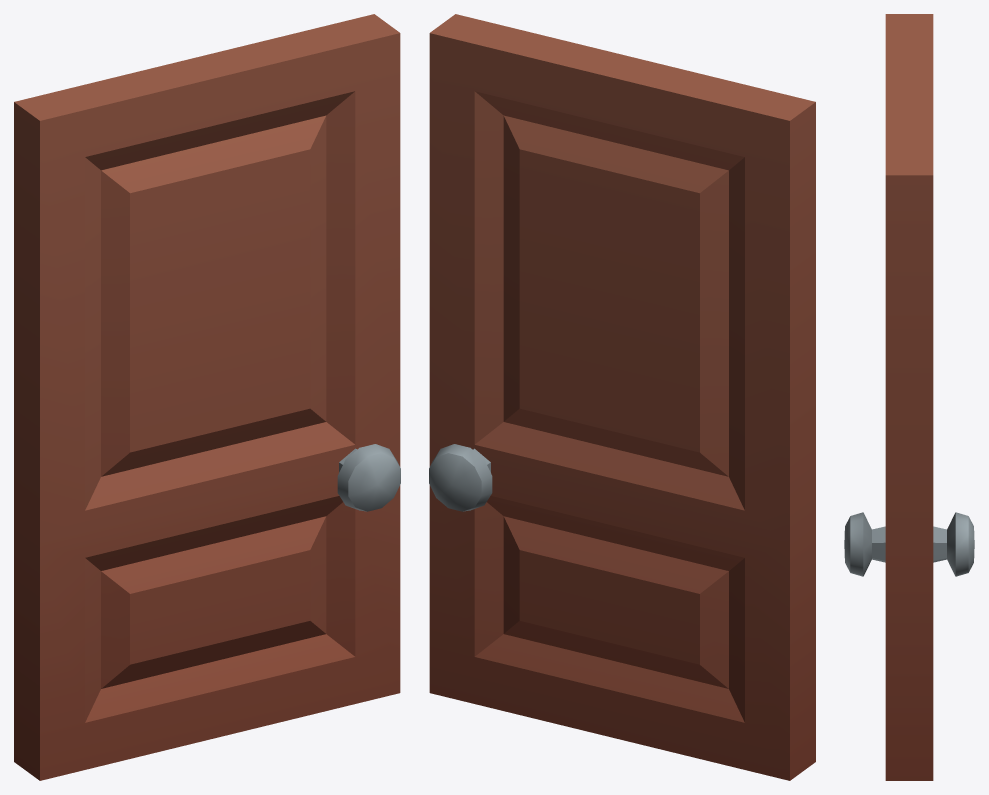
The model's file is Door.glb.
The picture shows the model from 3 angles, left to right: view 1: azimuth 30°, elevation 25°; view 2: azimuth 150°, elevation 25°; view 3: azimuth 270°, elevation 25°; orthographic projection. The views are drawn at different scales.
Visible parts, largest first — view 1: Door_A; view 2: Door_A; view 3: Door_A.
Part boxes in pixels (bbox=[...]): Door_A: bbox=[14, 14, 400, 780]; Door_A: bbox=[429, 14, 815, 780]; Door_A: bbox=[844, 14, 974, 780].
Size of the model in its own units: 1.6 by 2.8 by 0.5461.
Materials: 1 (1 with a texture image).
